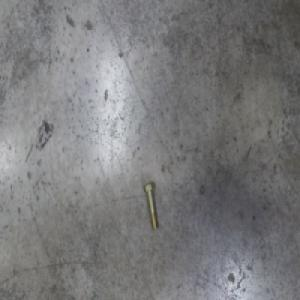Bolt: (144, 178, 160, 229)
